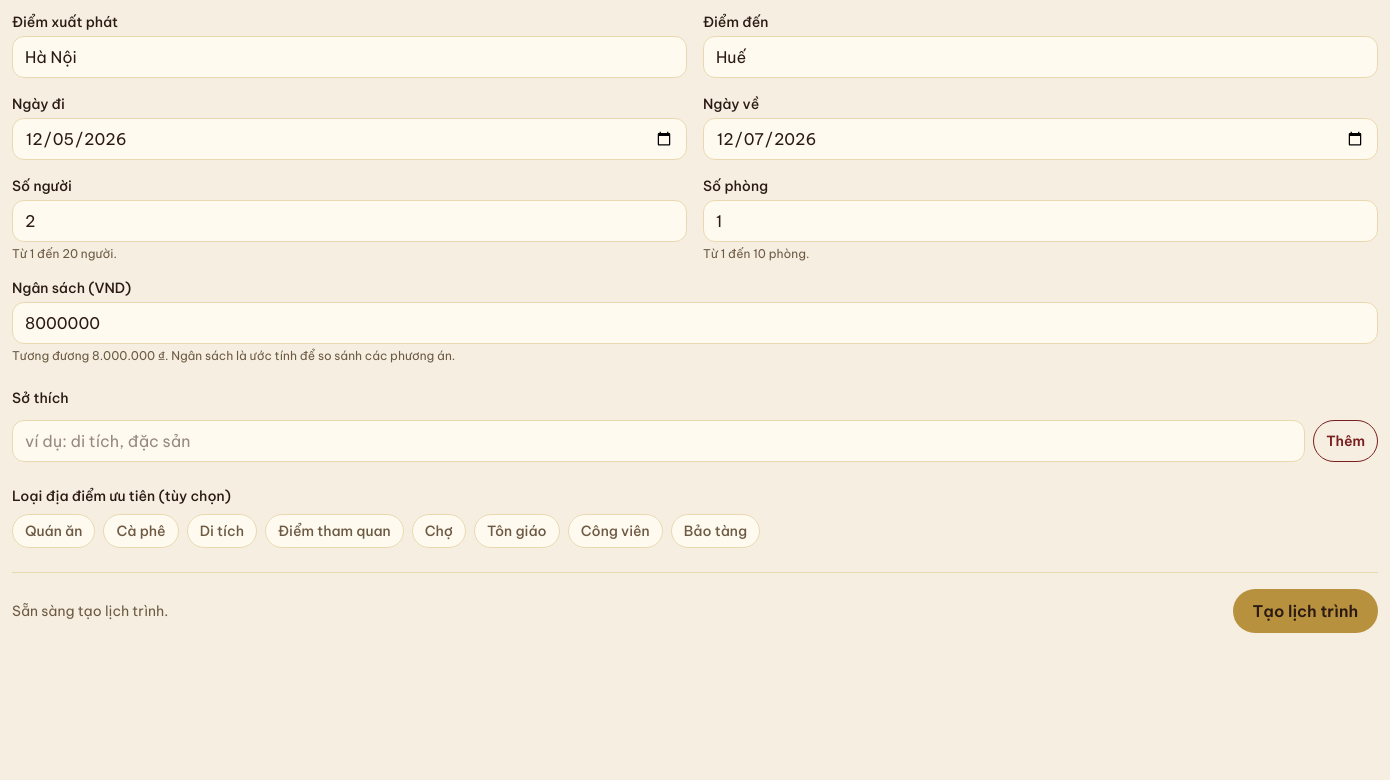
Test: TripRequestForm › adds preferences with the button or Enter, removes them, and never submits from Enter
This screenshot has width=1390, height=780.
Type "chợ đêm" into the field labelled "Sở thích".
click(659, 441); type("chợ đêm")  # box [12,420,1305,462]
Then press Enter
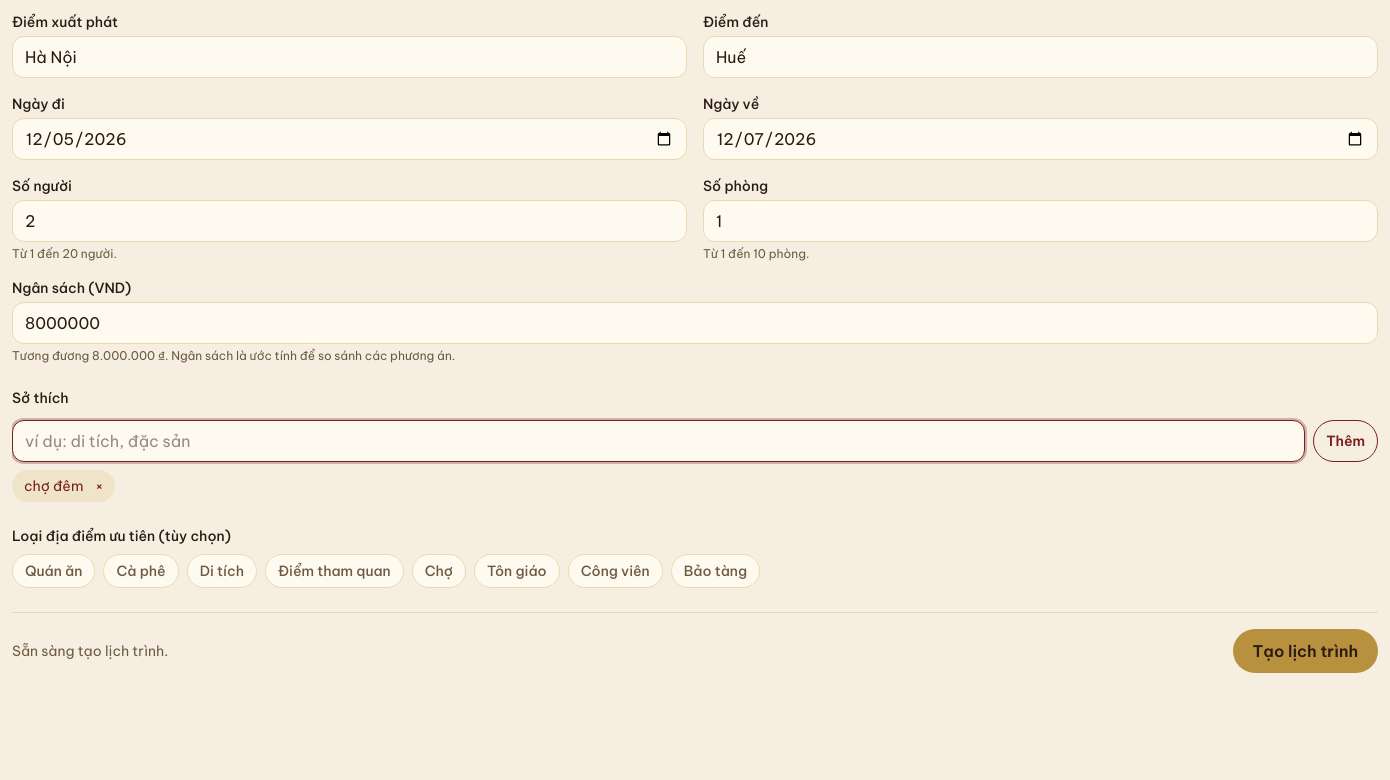
Type "ẩm thực" into the field labelled "Sở thích".
click(659, 441); type("ẩm thực")  # box [12,420,1305,462]
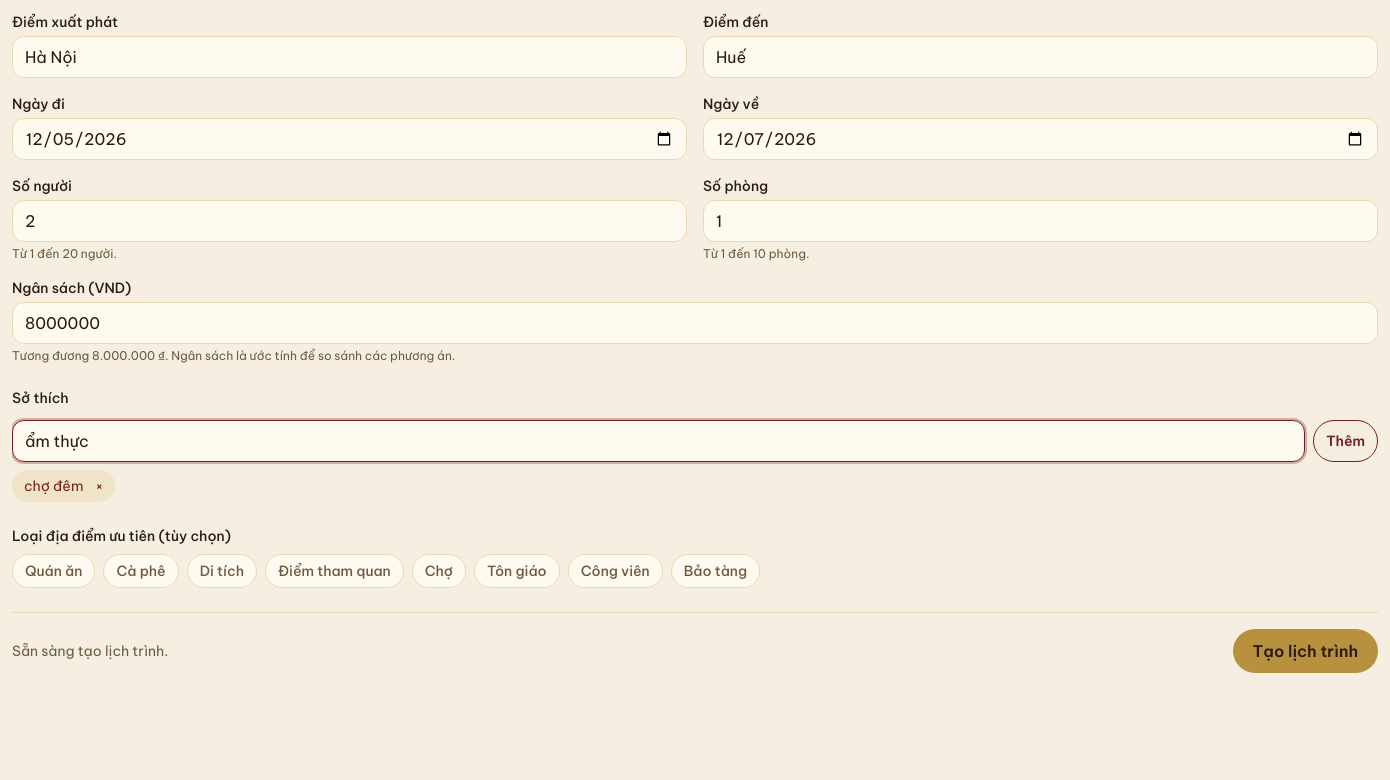
Click the button "Thêm".
click(1346, 441)  # box [1313,420,1378,462]
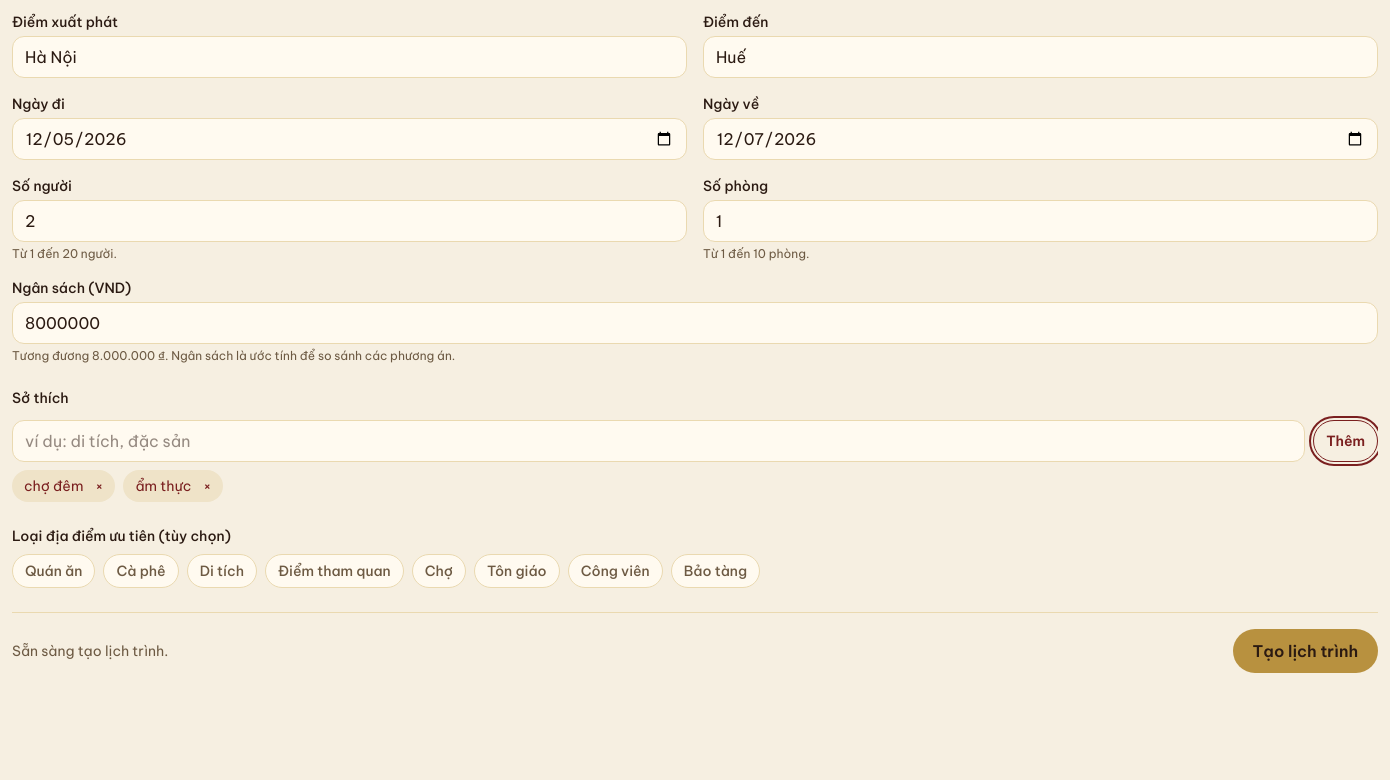
Check: the list item "chợ đêm" is shown, box [24,477,83,495]
Check: the list item "ẩm thực" is shown, box [135,477,191,495]
Click the button named "Xóa sở thích chợ đêm".
click(99, 486)  # box [87,474,111,498]
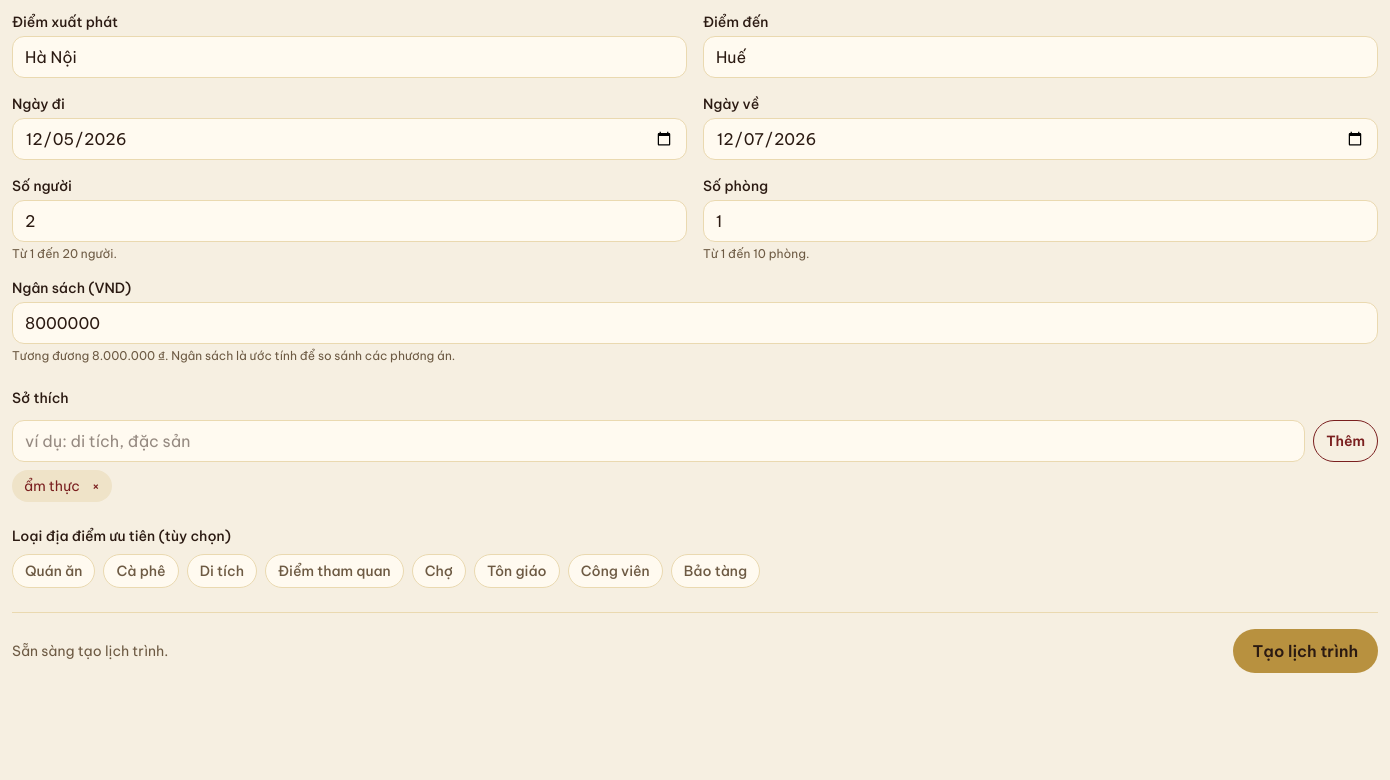
Check: the list item "chợ đêm" is gone
